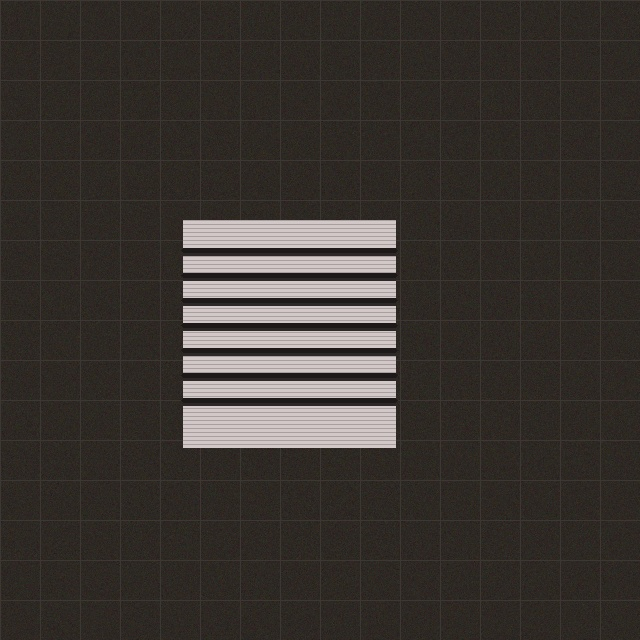under_extrusion: (178, 240, 400, 427)
